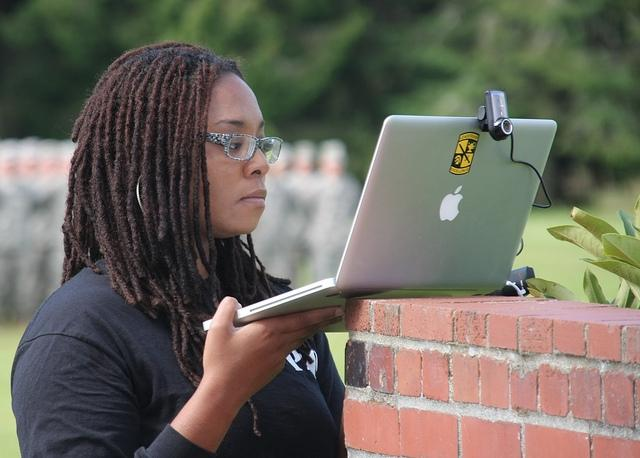apple: (439, 185, 464, 221)
